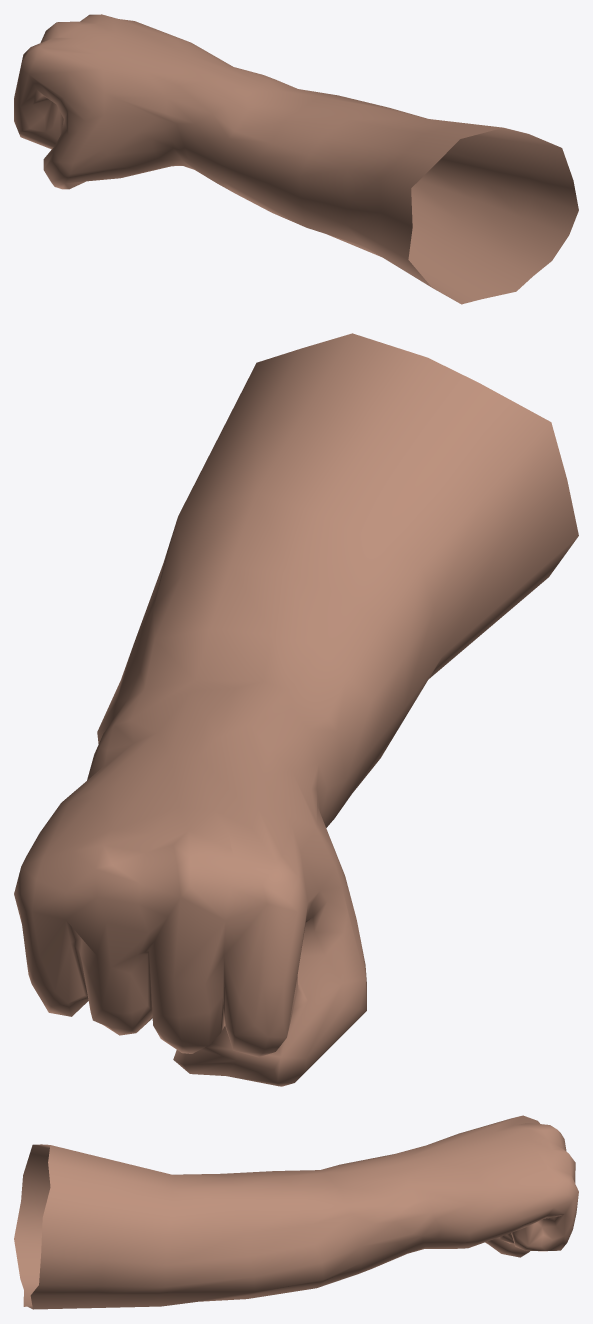
File: onearm.dae
The picture shows the model from 3 angles, top to bottom: view 1: azimuth 30°, elevation 25°; view 2: azimuth 150°, elevation 25°; view 3: azimuth 270°, elevation 25°; orthographic projection. The views are drawn at different scales.
Parts seen in each view (by area): view 1: arm; view 2: arm; view 3: arm.
Boxes of the visible parts, x1,y1,x2,y2 form: arm: (14,14,578,304); arm: (14,333,578,1086); arm: (14,1115,578,1309).
Bounding box in the file's own units: 15.01 × 9.08 × 26.34.
